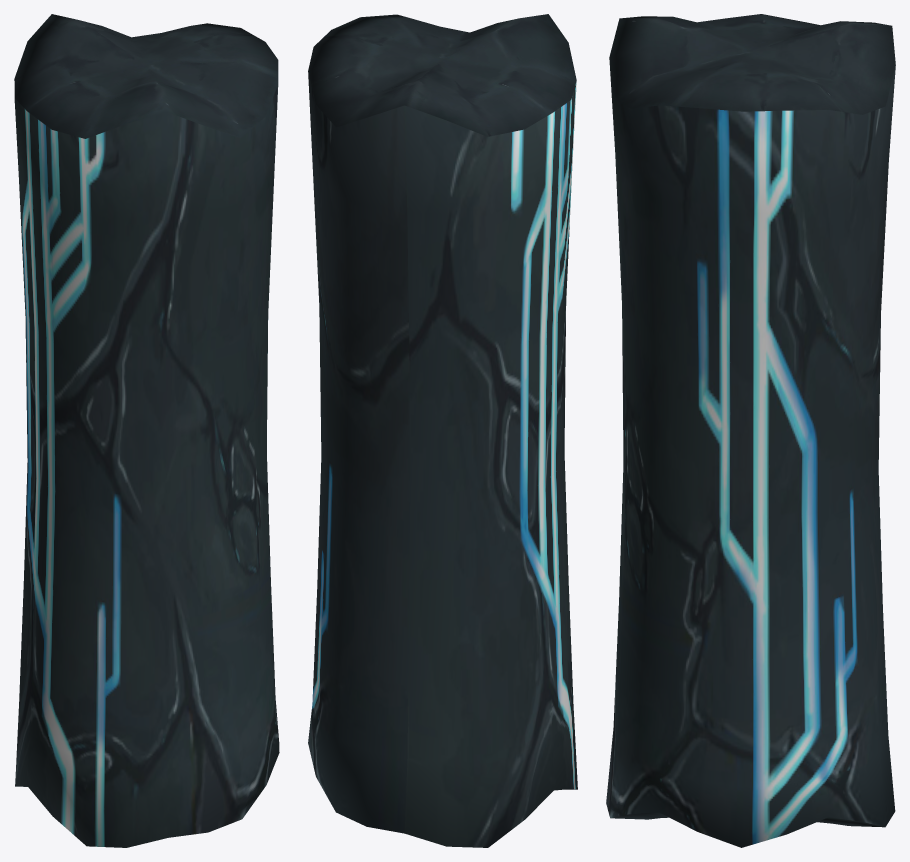
The model's file is pillar_INTERACTABLE_mid.fbx.
The picture shows the model from 3 angles, left to right: view 1: azimuth 30°, elevation 25°; view 2: azimuth 150°, elevation 25°; view 3: azimuth 270°, elevation 25°; orthographic projection. The views are drawn at different scales.
Parts seen in each view (by area): view 1: pillar_INTERACTABLE_mid; view 2: pillar_INTERACTABLE_mid; view 3: pillar_INTERACTABLE_mid.
Part boxes in pixels (box(x1,y1,x2,y2)): pillar_INTERACTABLE_mid: box(14, 14, 279, 847); pillar_INTERACTABLE_mid: box(308, 14, 577, 847); pillar_INTERACTABLE_mid: box(606, 14, 895, 847).
Size of the model in its own units: 0.6297 by 1.95 by 0.6497.
1 material, 1 textured.
